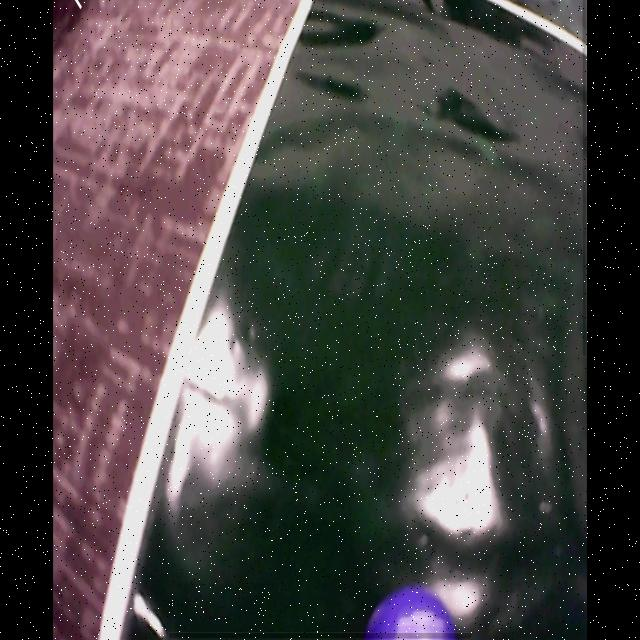ball: (369, 595, 463, 640)
